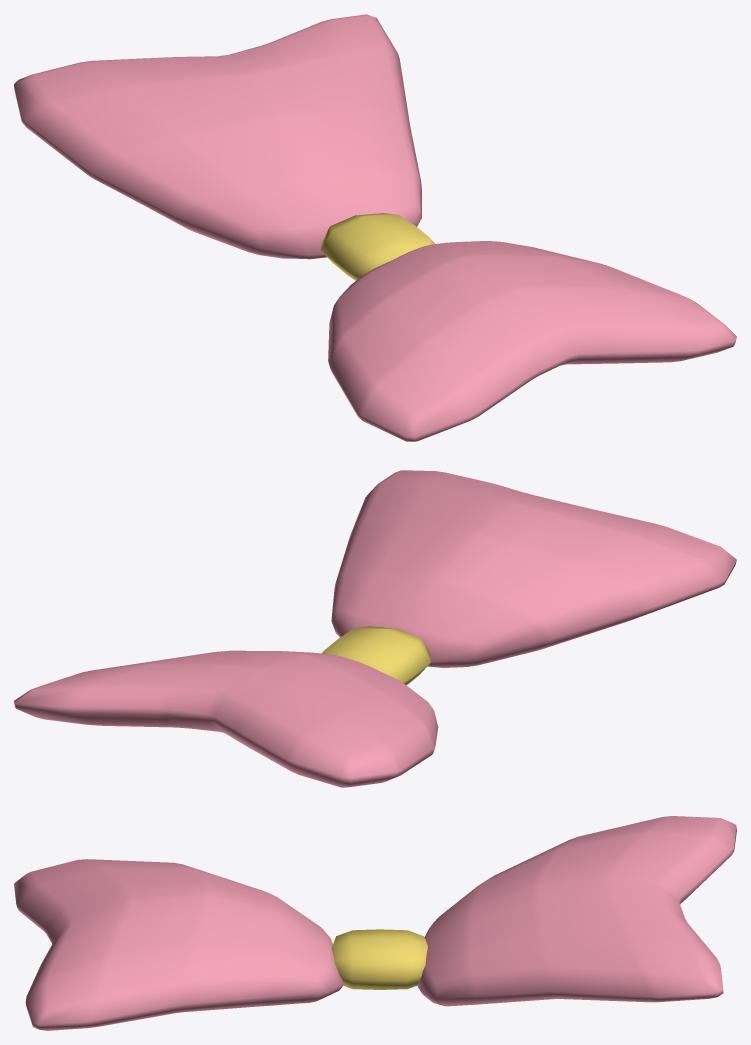
File: Ribbon.fbx
3 renders of one model, top to bottom at view 1: azimuth 30°, elevation 25°; view 2: azimuth 150°, elevation 25°; view 3: azimuth 270°, elevation 25°, orthographic. The views are drawn at different scales.
Parts seen in each view (by area): view 1: Ribbon laces, Ribbon middle; view 2: Ribbon laces, Ribbon middle; view 3: Ribbon laces, Ribbon middle.
Part boxes in pixels (box(x1,y1,x2,y2)): Ribbon laces: box(14, 14, 736, 441); Ribbon middle: box(320, 213, 434, 280); Ribbon laces: box(14, 470, 736, 787); Ribbon middle: box(322, 626, 430, 685); Ribbon laces: box(14, 816, 736, 1030); Ribbon middle: box(332, 929, 427, 989).
Bounding box in the file's own units: 224 × 65.22 × 413.
Materials: 1 (1 with a texture image).
